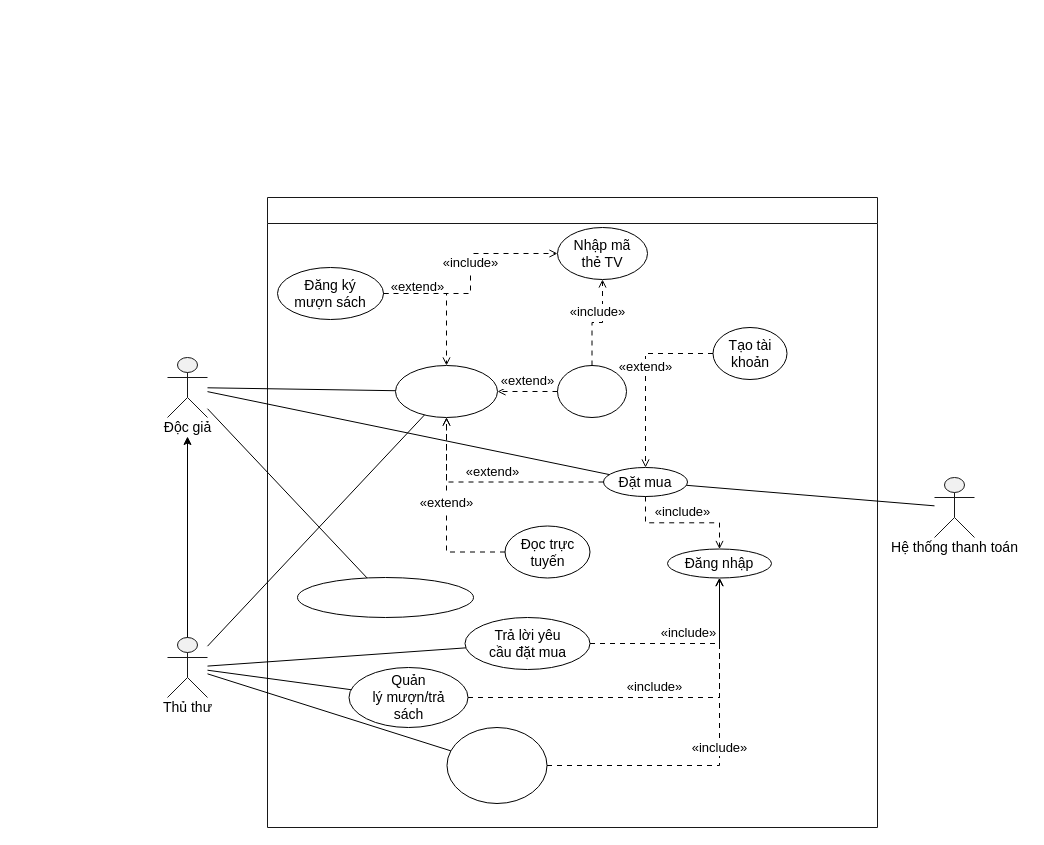
Some shapes in this 1044 by 845 pixel diagram are drawn without their labels. Each missing label, with the centre of its shape:
"Cập nhật danh mục sách" belongs at point 496,765.
"Gửi mail thông báo hạn trả sách" belongs at point 385,597.
"Tìm kiếm tài liệu" belongs at point 446,391.
"Tải tài liệu" belongs at point 591,391.
